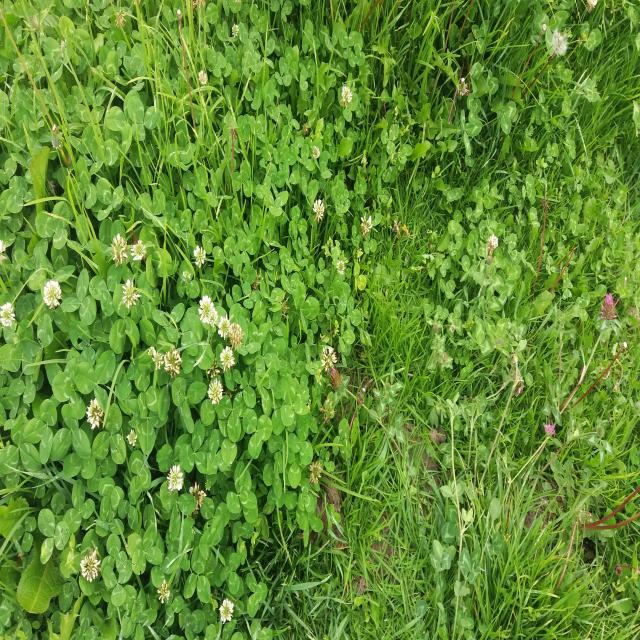Four Leaf Clover: (126, 521, 162, 576)
